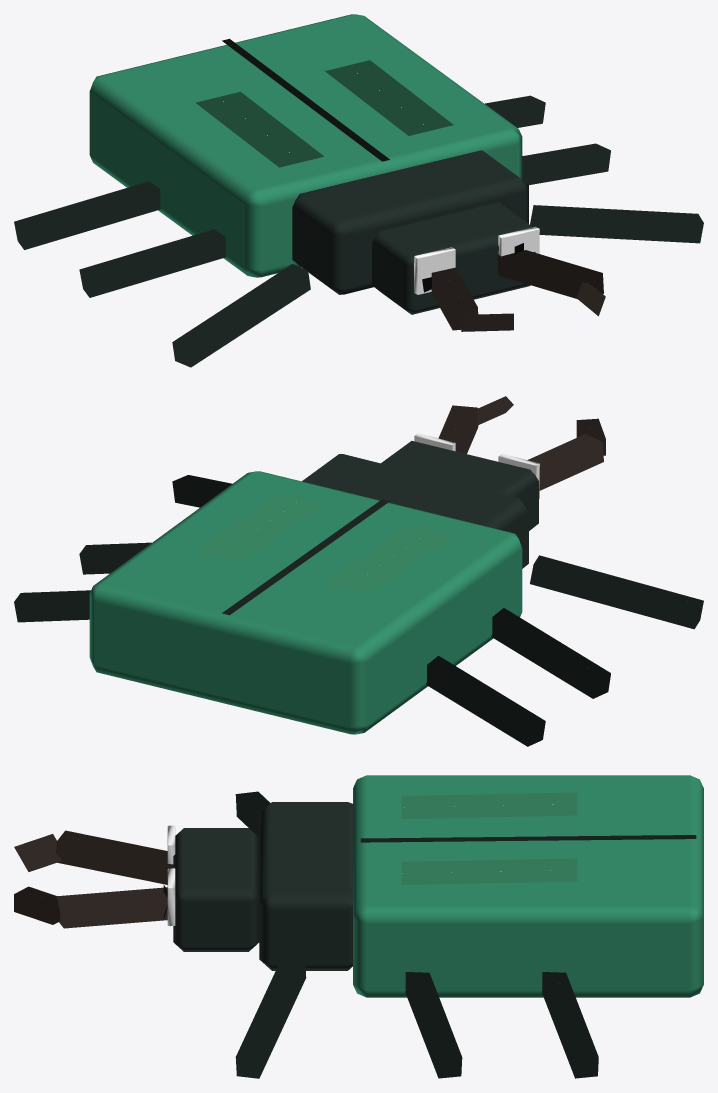
File: beetle_lod1.glb
3 views of the same model, one above another, from view 1: azimuth 30°, elevation 25°; view 2: azimuth 150°, elevation 25°; view 3: azimuth 270°, elevation 25° (orthographic). The views are drawn at different scales.
Parts seen in each view (by area): view 1: Geo_Beetle; view 2: Geo_Beetle; view 3: Geo_Beetle.
Boxes of the visible parts, bbox=[...] form: Geo_Beetle: bbox=[14, 14, 703, 367]; Geo_Beetle: bbox=[14, 396, 703, 746]; Geo_Beetle: bbox=[14, 775, 703, 1078].
Size of the model in its own units: 87.51 by 16.67 by 95.2.
1 material, 1 textured.
